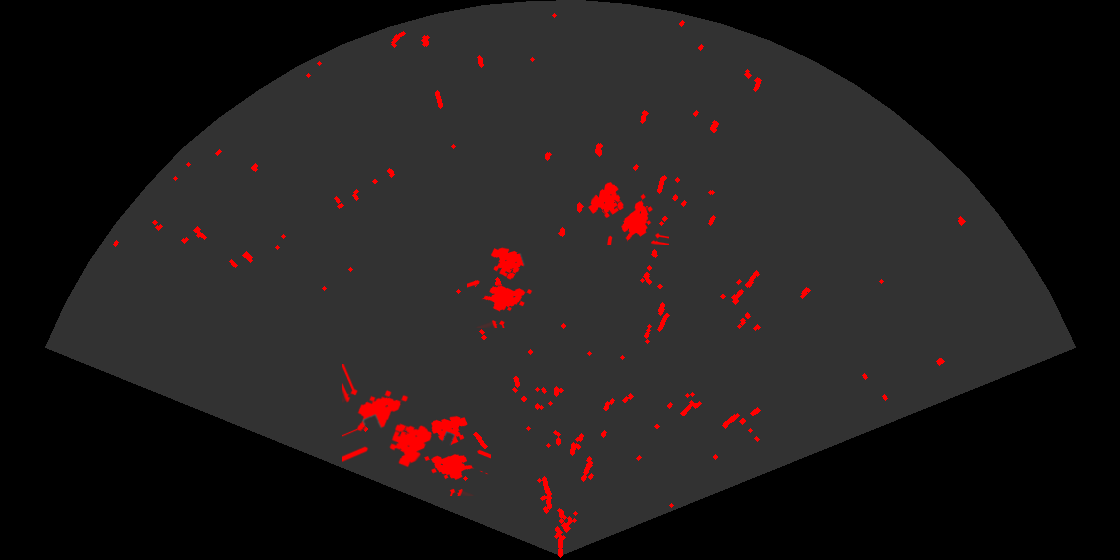cage: (342, 364, 434, 469), (423, 414, 491, 496), (467, 246, 534, 328), (587, 181, 669, 245)
